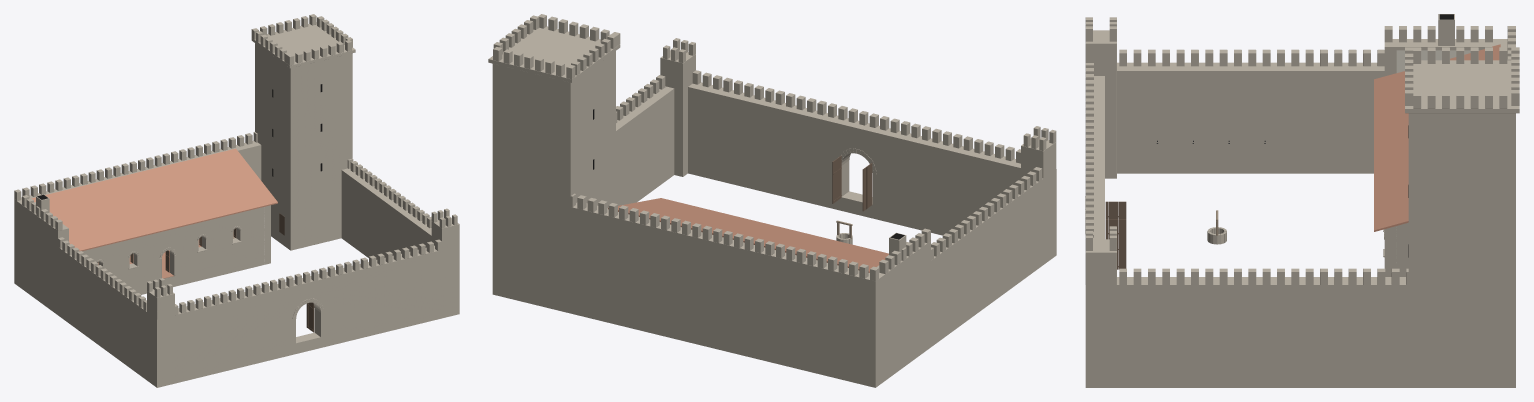
File: campi.glb
3 renders of one model, left to right at view 1: azimuth 30°, elevation 25°; view 2: azimuth 150°, elevation 25°; view 3: azimuth 270°, elevation 25°, orthographic. The views are drawn at different scales.
Visible parts, largest first — view 1: campi; view 2: campi; view 3: campi.
Part boxes in pixels (x1=…): campi: x1=14, y1=14, x2=459, y2=387; campi: x1=488, y1=14, x2=1056, y2=387; campi: x1=1085, y1=14, x2=1519, y2=387.
Size of the model in its own units: 44.3 by 27.1 by 36.34.
